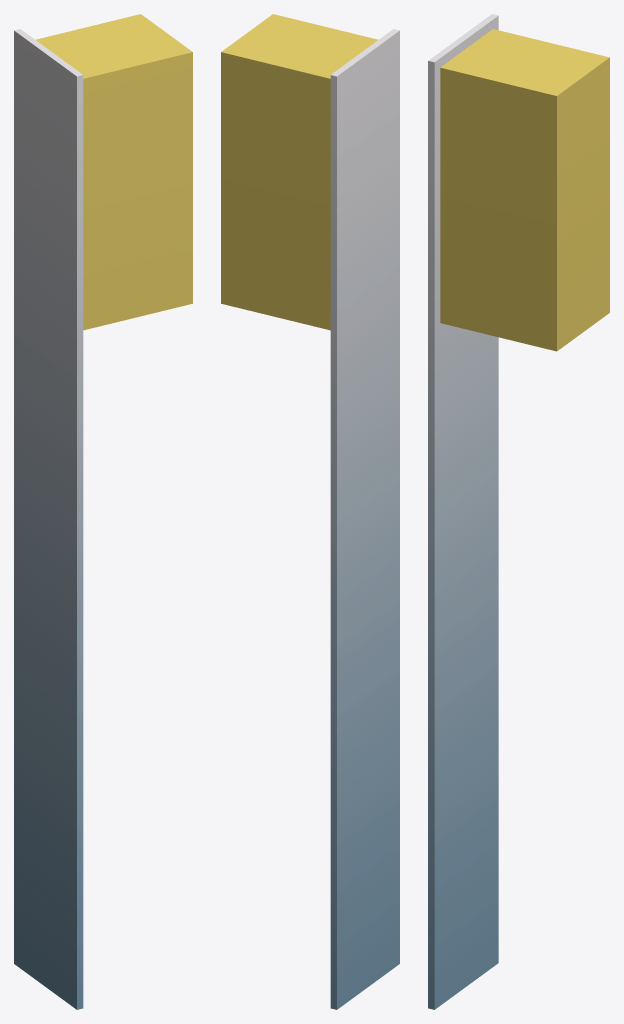
Rendered from Obstacle_5.fbx.
3 renders of one model, left to right at view 1: azimuth 30°, elevation 25°; view 2: azimuth 150°, elevation 25°; view 3: azimuth 330°, elevation 25°, orthographic.
Parts seen in each view (by area): view 1: Obstacle_5; view 2: Obstacle_5; view 3: Obstacle_5.
Boxes of the visible parts, <box> form: Obstacle_5: <box>14,14,192,1009</box>; Obstacle_5: <box>221,14,399,1009</box>; Obstacle_5: <box>428,14,609,1009</box>.
Bounding box in the file's own units: 594 × 4361 × 534.
